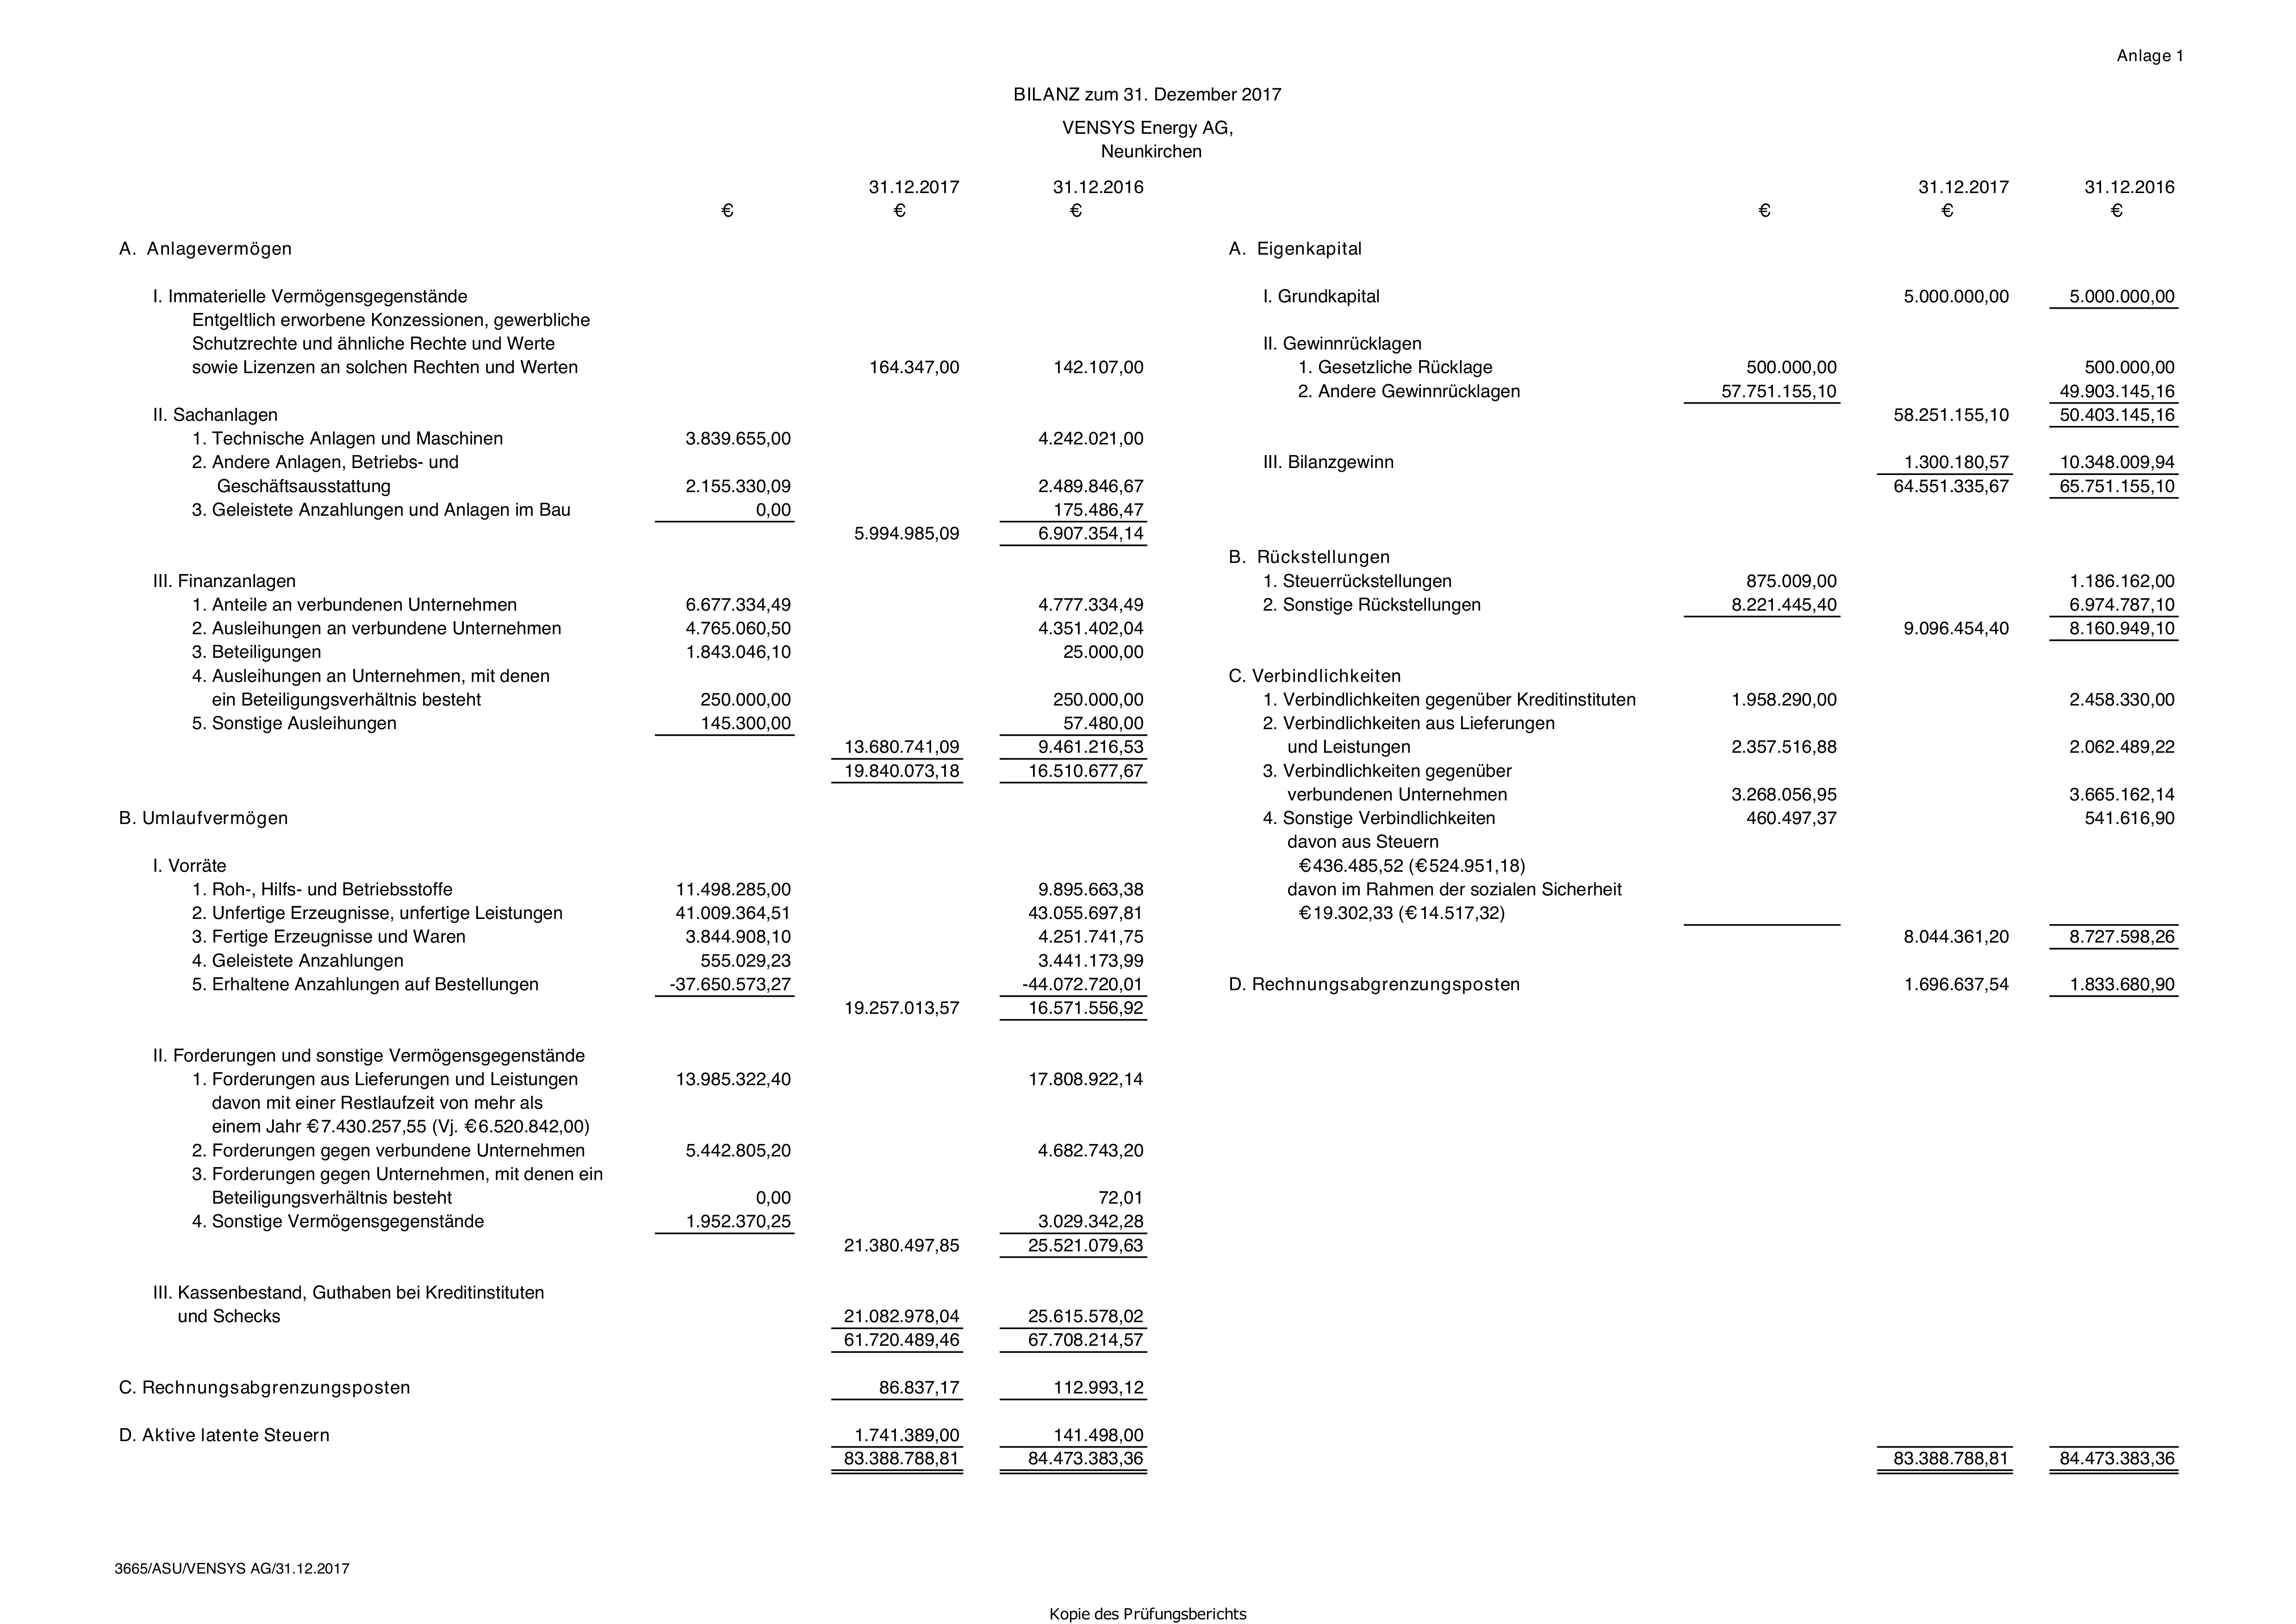Aktiva: (95, 165, 1180, 1492)
Passiva: (1182, 162, 2212, 1501)
